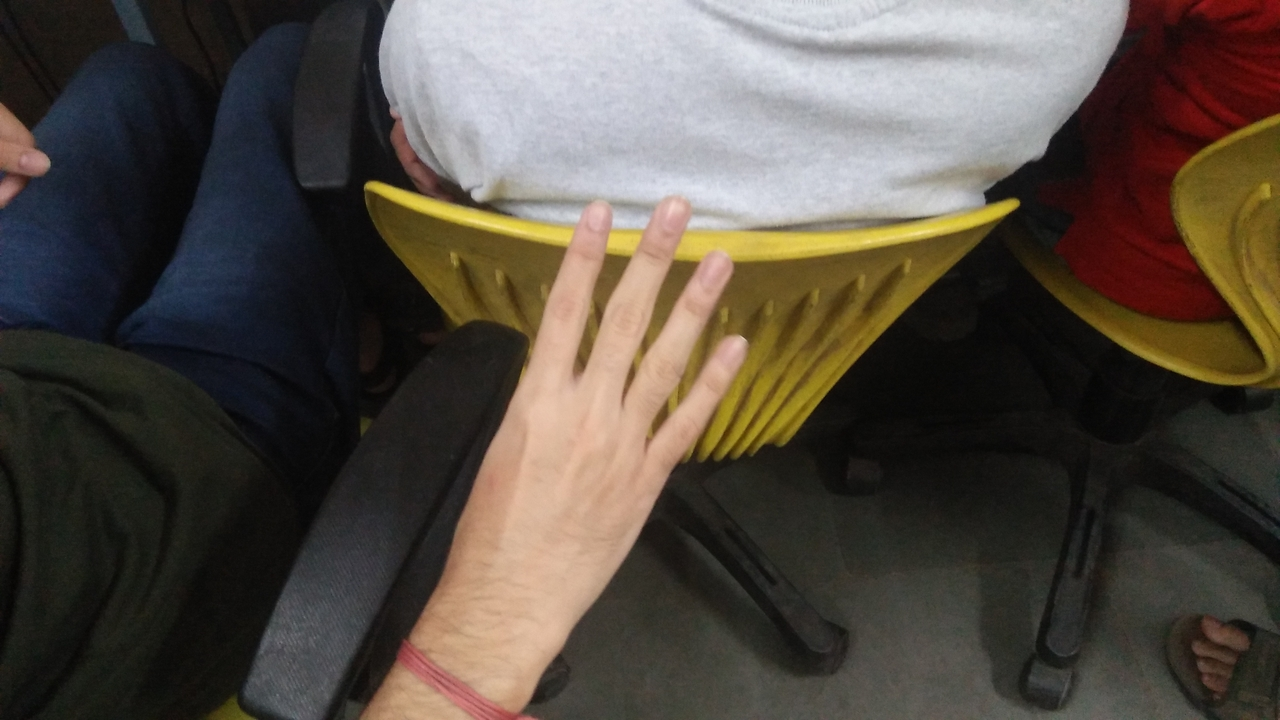fingertip: (638, 184, 702, 242), (564, 186, 622, 242), (688, 236, 740, 288), (709, 329, 748, 371)
